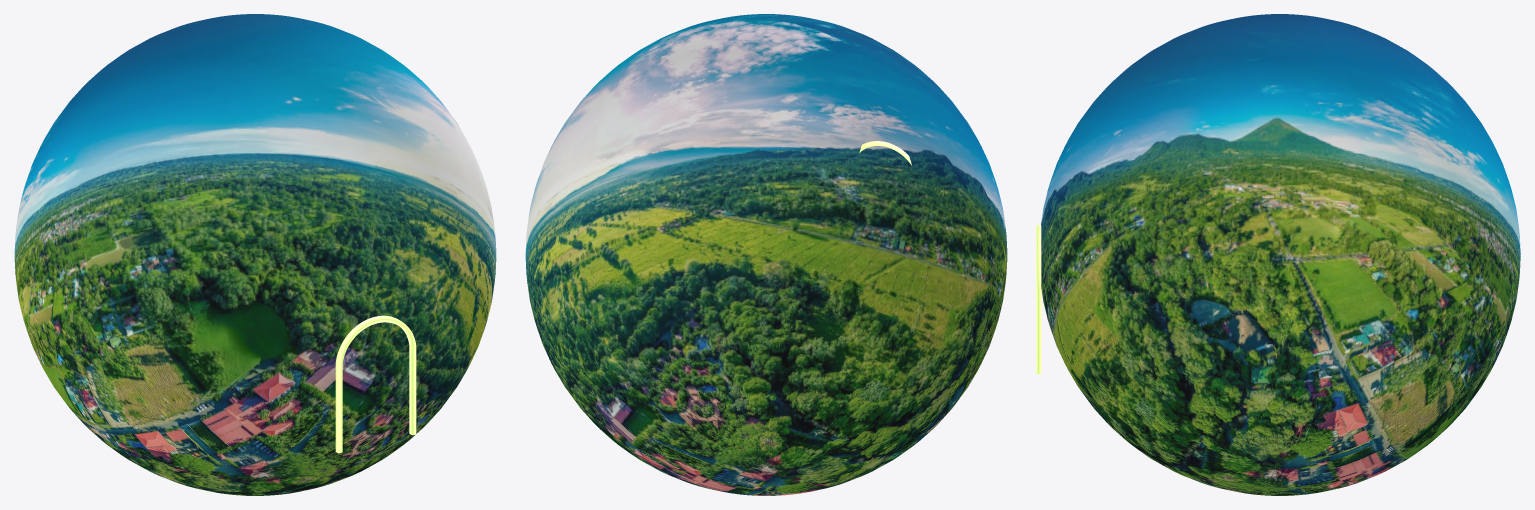
The model's file is arenal-portal.glb.
The picture shows the model from 3 angles, left to right: view 1: azimuth 30°, elevation 25°; view 2: azimuth 150°, elevation 25°; view 3: azimuth 270°, elevation 25°; orthographic projection.
Visible parts, largest first — view 1: Portal; view 2: Portal; view 3: Portal.
Boxes of the visible parts, x1=… form: Portal: x1=14, y1=14, x2=496, y2=495; Portal: x1=525, y1=14, x2=1007, y2=495; Portal: x1=1036, y1=14, x2=1520, y2=495.
Bounding box in the file's own units: 7 × 7 × 7.04.
Materials: 2 (1 with a texture image).
